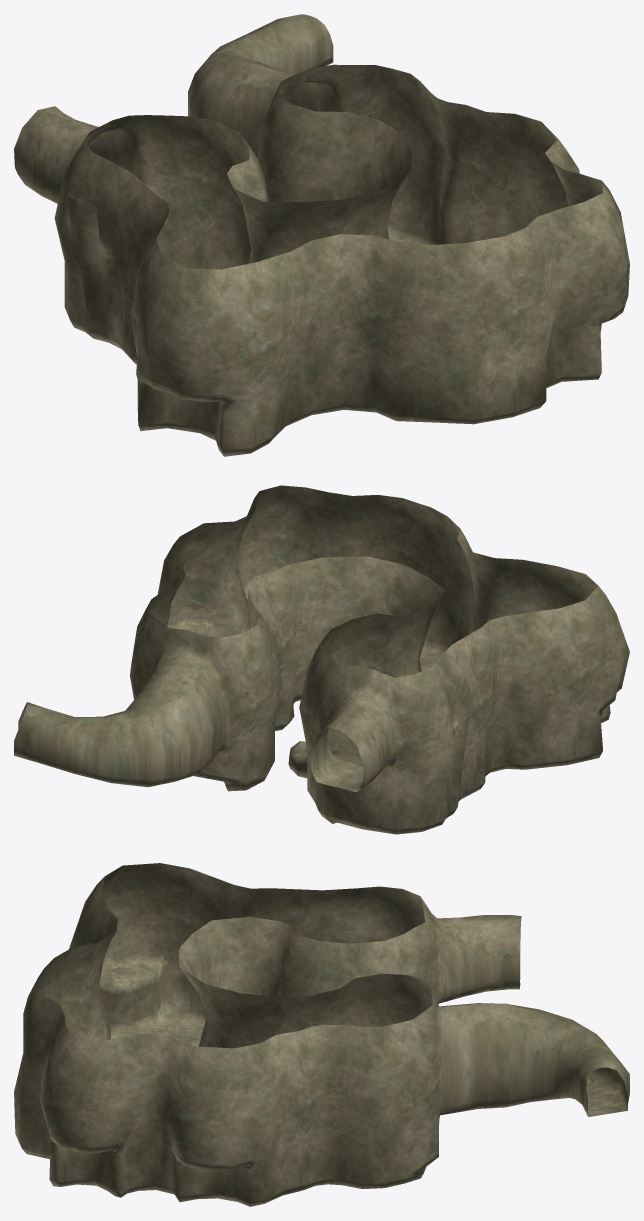
The model's file is OVERHILL_A_01_CAVE_06.fbx.
The picture shows the model from 3 angles, top to bottom: view 1: azimuth 30°, elevation 25°; view 2: azimuth 150°, elevation 25°; view 3: azimuth 270°, elevation 25°; orthographic projection. The views are drawn at different scales.
Visible parts, largest first — view 1: OVERHILL_A_01_CAVE_06; view 2: OVERHILL_A_01_CAVE_06; view 3: OVERHILL_A_01_CAVE_06.
Part boxes in pixels (<box>): OVERHILL_A_01_CAVE_06: <box>14,14,629,456</box>; OVERHILL_A_01_CAVE_06: <box>14,485,629,834</box>; OVERHILL_A_01_CAVE_06: <box>14,863,629,1206</box>.
Bounding box in the file's own units: 228795 × 83375 × 284138.
Materials: 1 (1 with a texture image).
